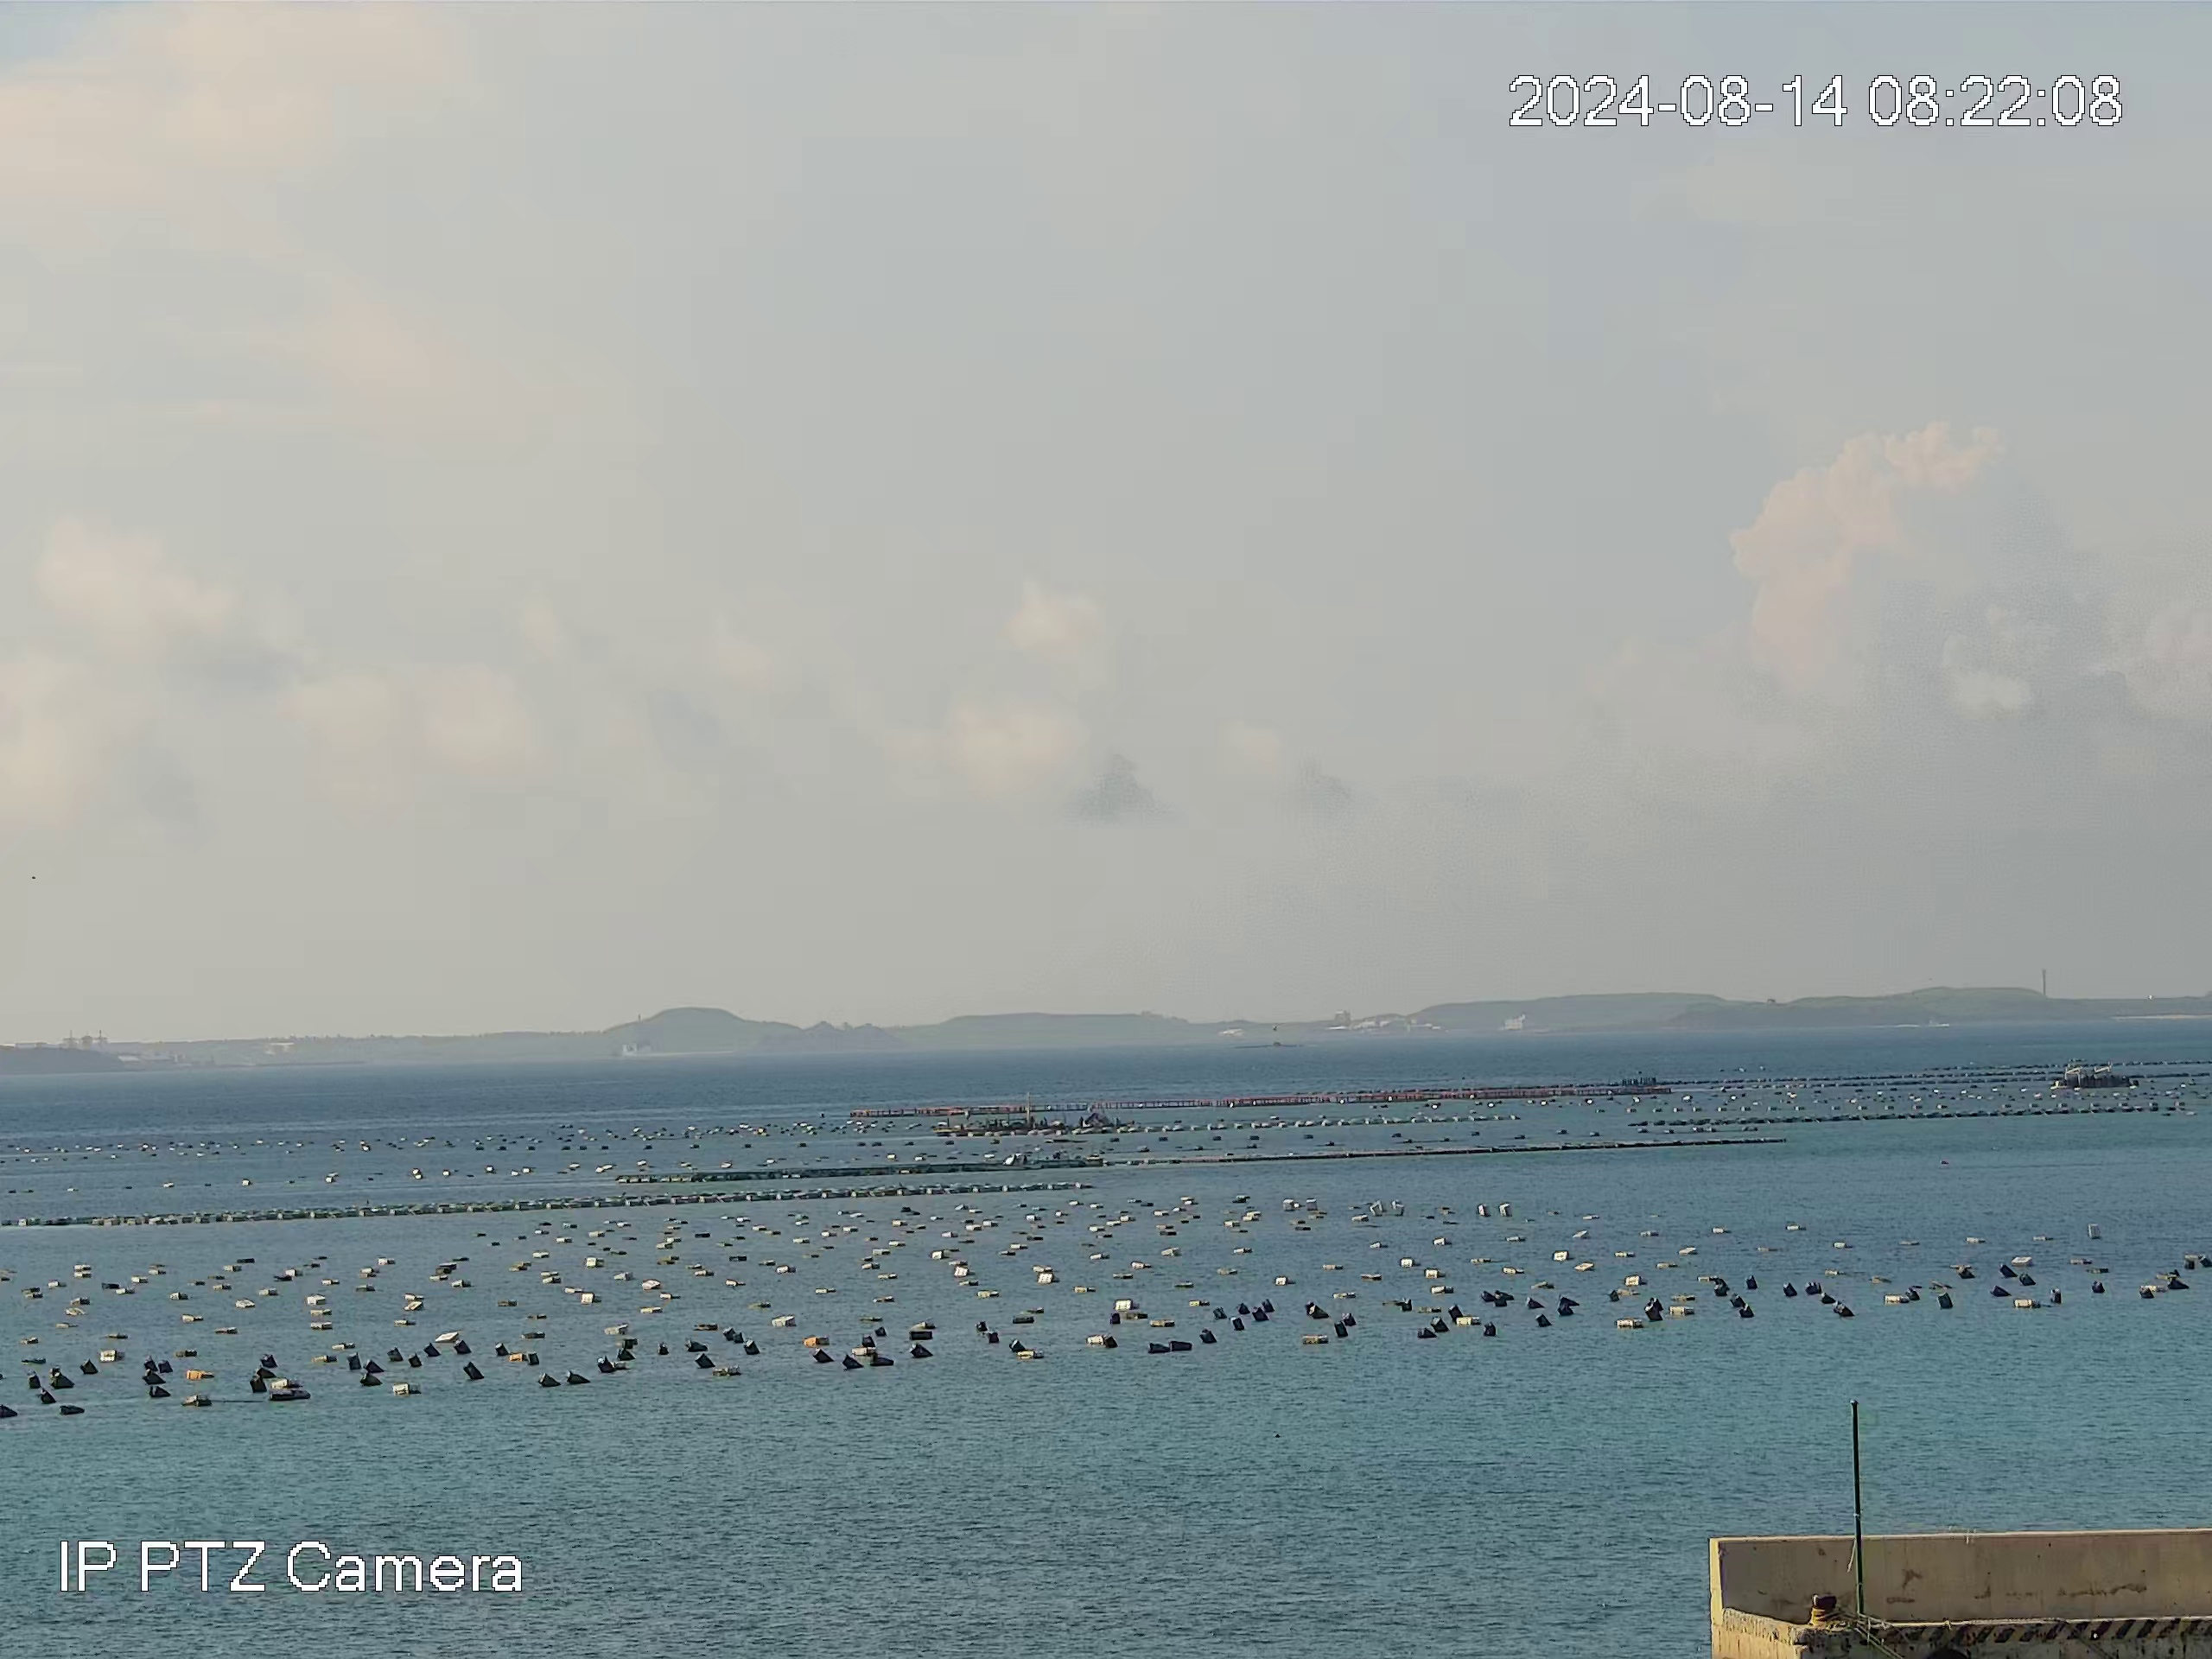boat: (2054, 1056, 2141, 1091)
